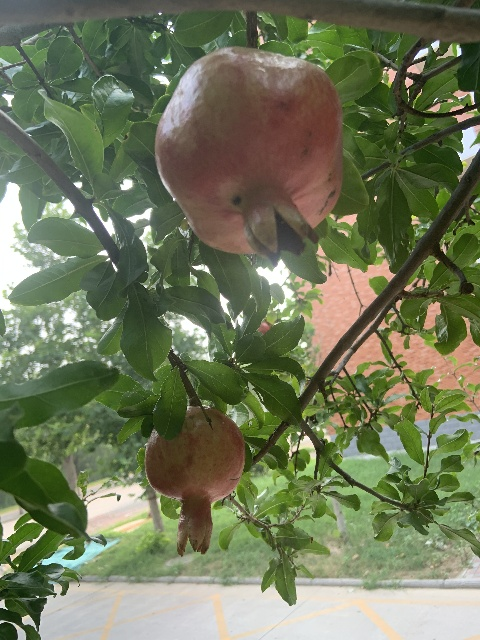ripe: (154, 45, 342, 251), (144, 406, 246, 556)
